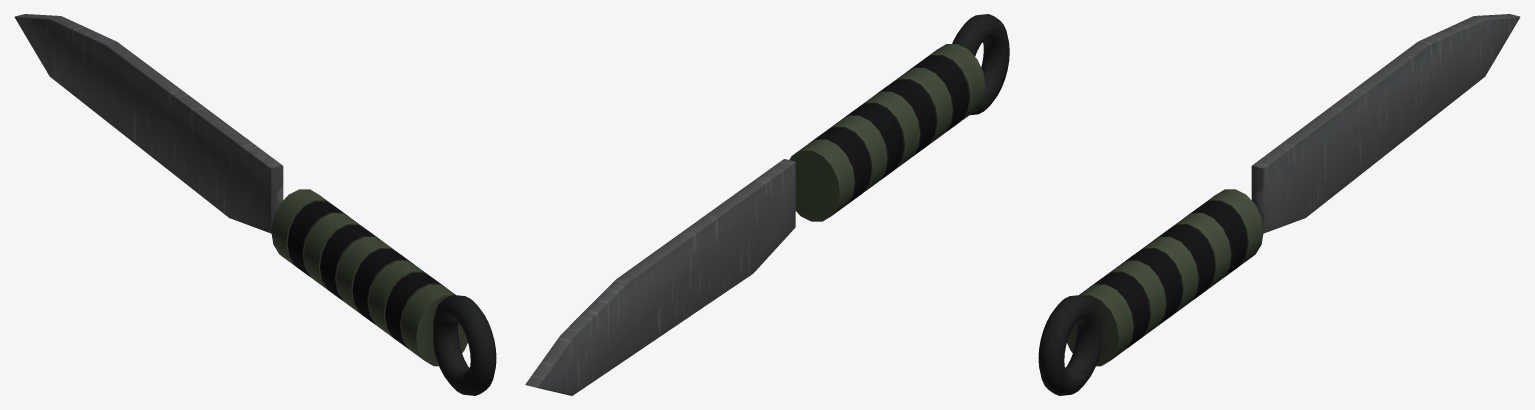
File: knife_paracord.glb
The picture shows the model from 3 angles, left to right: view 1: azimuth 30°, elevation 25°; view 2: azimuth 150°, elevation 25°; view 3: azimuth 330°, elevation 25°; orthographic projection.
Parts seen in each view (by area): view 1: body_receiver, body_furniture, body_metal; view 2: body_receiver, body_furniture, body_metal; view 3: body_receiver, body_furniture, body_metal.
Part boxes in pixels (bbox=[...]): body_receiver: bbox=[14, 14, 496, 395]; body_furniture: bbox=[271, 189, 467, 366]; body_metal: bbox=[287, 201, 447, 348]; body_receiver: bbox=[525, 14, 1009, 395]; body_furniture: bbox=[789, 44, 985, 221]; body_metal: bbox=[808, 56, 969, 204]; body_receiver: bbox=[1038, 14, 1520, 395]; body_furniture: bbox=[1067, 189, 1263, 366]; body_metal: bbox=[1087, 201, 1247, 348].
Size of the model in its own units: 0.0236 by 0.0376 by 0.3408.
3 materials, 3 textured.
